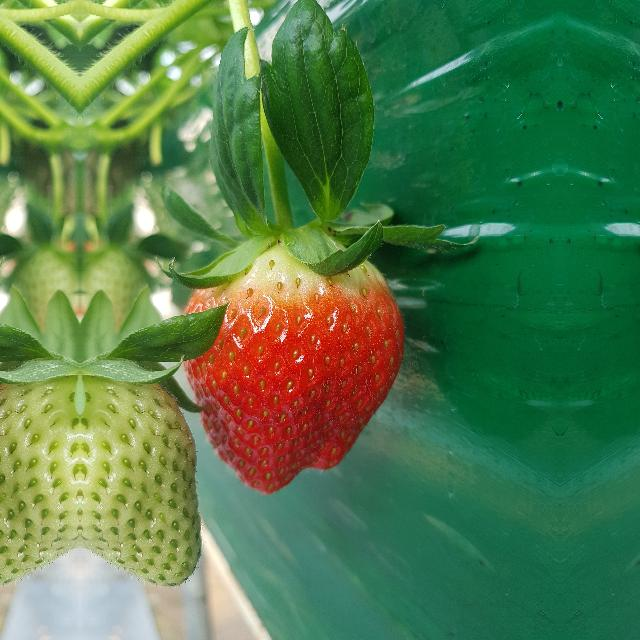Health_25: (80, 366, 208, 584), (0, 366, 80, 584)
Health_75: (183, 241, 405, 495)
